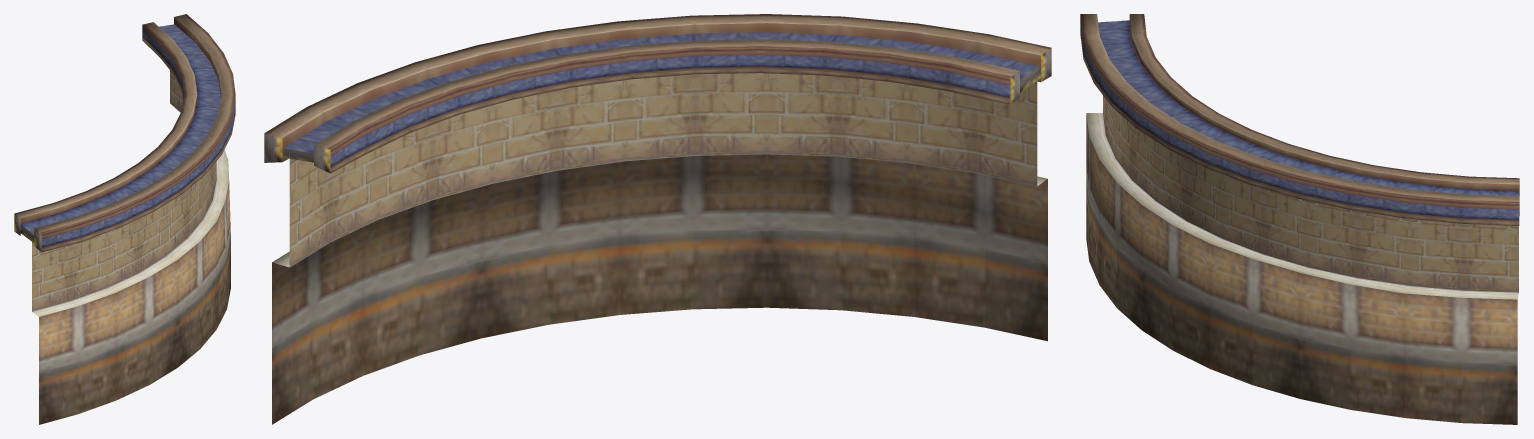
File: S_Build_City090.FBX
3 renders of one model, left to right at view 1: azimuth 30°, elevation 25°; view 2: azimuth 150°, elevation 25°; view 3: azimuth 270°, elevation 25°, orthographic. The views are drawn at different scales.
Parts seen in each view (by area): view 1: w; view 2: w; view 3: w.
Boxes of the visible parts, left/top/right/bottom form: w: left=14, top=14, right=235, bottom=424; w: left=264, top=14, right=1051, bottom=424; w: left=1080, top=14, right=1519, bottom=424.
Size of the model in its own units: 1638 by 905 by 1606.
